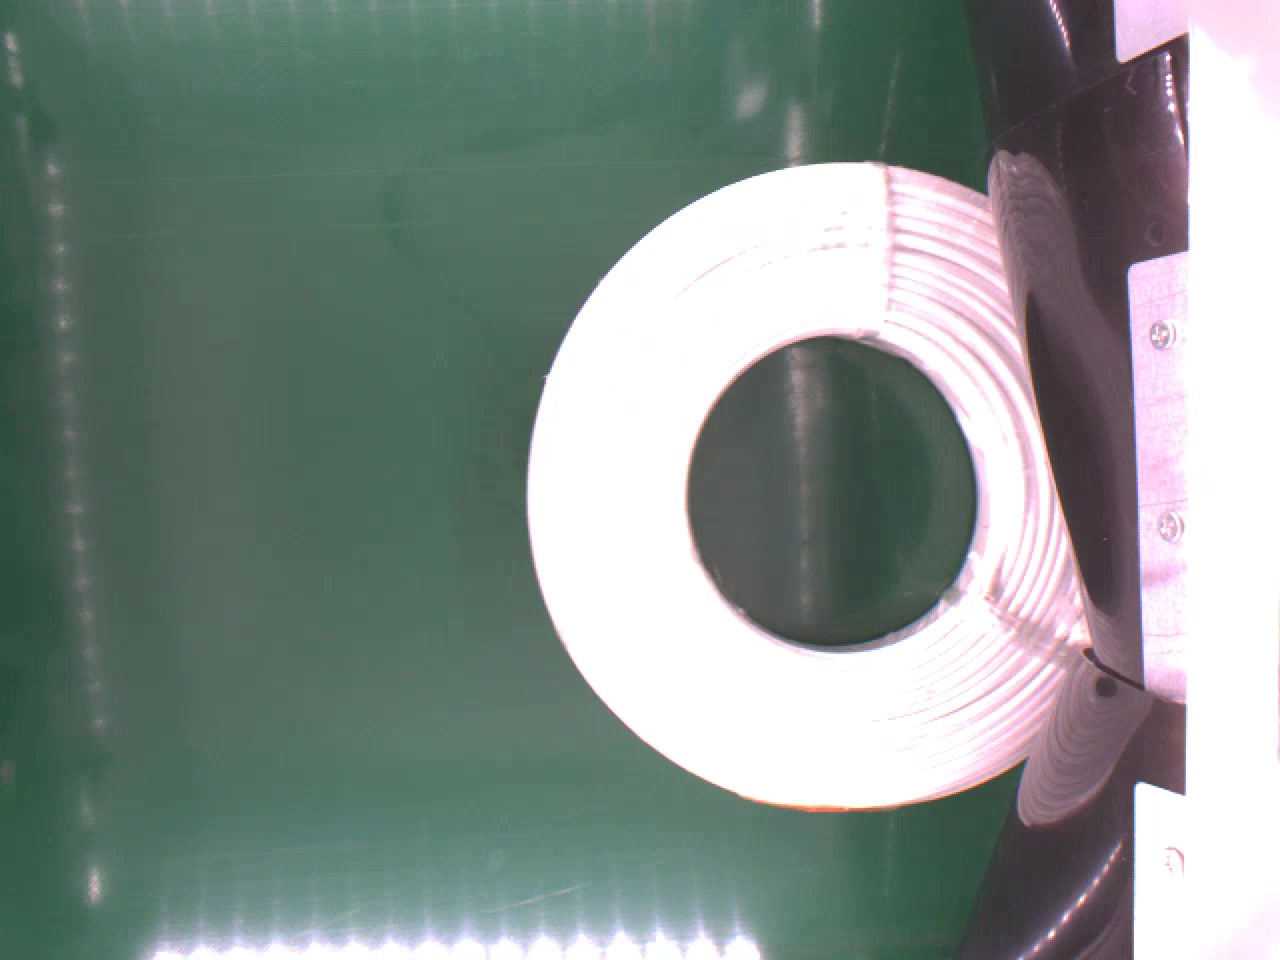white: (526, 159, 1087, 820)
